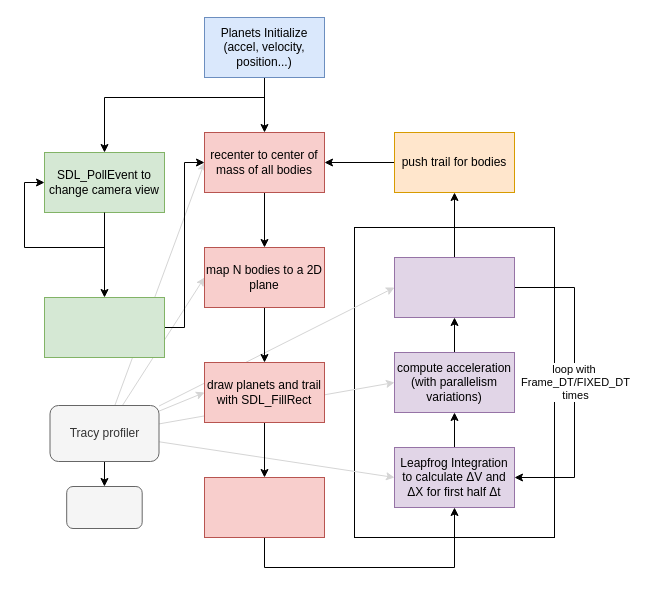
Image size: 647x593. Some labels were removed from this diagram. The centre of each missing label's shape, as x and y in pixels:
adjust camera parameter (r ,θ ,φ): the point at 104,327
client: the point at 104,507
Leapfrog Integration for second half Δt: the point at 454,287
SDL_GetTicks() to get real time refernce for integration: the point at 264,507
